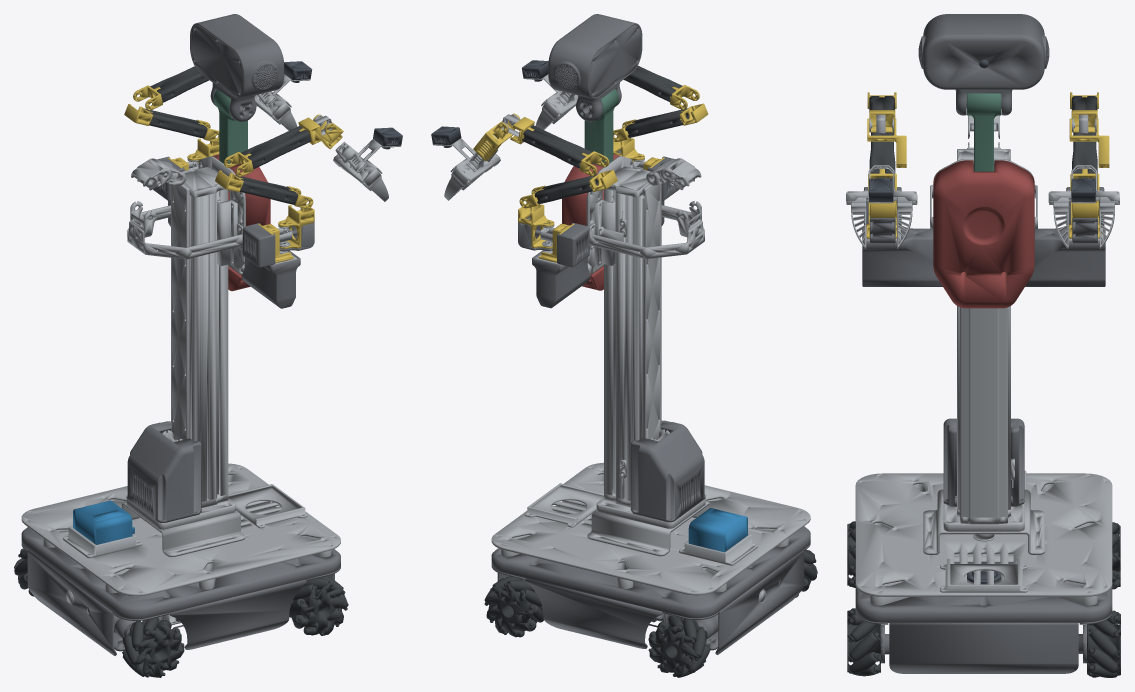
The model's file is preview.glb.
3 views of the same model, side by side, from view 1: azimuth 30°, elevation 25°; view 2: azimuth 150°, elevation 25°; view 3: azimuth 270°, elevation 25° (orthographic). The views are drawn at different scales.
Parts seen in each view (by area): view 1: base_link_metal, base_link_shell, lift_carriage_metal, head_link_shell, lift_carriage_shell, rear_right_wheel_carbon, front_right_wheel_carbon, base_link_battery, head_link_neck, lift_carriage_chest, right_arm_link5_metal, right_arm_link3_carbon (+8 smaller); view 2: base_link_metal, base_link_shell, lift_carriage_metal, head_link_shell, lift_carriage_shell, rear_left_wheel_carbon, front_left_wheel_carbon, base_link_battery, head_link_neck, lift_carriage_chest, left_arm_link3_carbon, left_arm_link5_metal (+9 smaller); view 3: base_link_metal, base_link_shell, lift_carriage_chest, head_link_shell, lift_carriage_shell, front_left_wheel_carbon, head_link_neck, front_right_wheel_carbon, right_arm_link2_carbon, left_arm_link2_carbon, left_arm_link4_arm, right_arm_link5_metal (+13 smaller).
Boxes of the visible parts, bbox=[...] form: base_link_metal: bbox=[21, 158, 340, 624]; base_link_shell: bbox=[21, 421, 340, 655]; lift_carriage_metal: bbox=[127, 156, 297, 440]; head_link_shell: bbox=[190, 14, 284, 121]; lift_carriage_shell: bbox=[153, 156, 314, 308]; rear_right_wheel_carbon: bbox=[122, 617, 184, 677]; front_right_wheel_carbon: bbox=[289, 576, 348, 635]; base_link_battery: bbox=[73, 500, 134, 544]; head_link_neck: bbox=[213, 89, 247, 165]; lift_carriage_chest: bbox=[212, 154, 270, 291]; right_arm_link5_metal: bbox=[333, 139, 400, 187]; right_arm_link3_carbon: bbox=[241, 126, 310, 169]; base_link_metal: bbox=[491, 158, 810, 622]; base_link_shell: bbox=[491, 420, 810, 654]; lift_carriage_metal: bbox=[535, 156, 704, 440]; head_link_shell: bbox=[548, 14, 642, 121]; lift_carriage_shell: bbox=[518, 150, 679, 308]; rear_left_wheel_carbon: bbox=[648, 615, 710, 677]; front_left_wheel_carbon: bbox=[484, 576, 543, 637]; base_link_battery: bbox=[688, 508, 747, 552]; head_link_neck: bbox=[584, 89, 618, 165]; lift_carriage_chest: bbox=[562, 154, 619, 290]; left_arm_link3_carbon: bbox=[522, 125, 591, 168]; left_arm_link5_metal: bbox=[433, 138, 500, 186]; base_link_metal: bbox=[855, 115, 1112, 605]; base_link_shell: bbox=[855, 418, 1112, 673]; lift_carriage_chest: bbox=[933, 160, 1034, 308]; head_link_shell: bbox=[918, 14, 1049, 115]; lift_carriage_shell: bbox=[862, 187, 1105, 286]; front_left_wheel_carbon: bbox=[1087, 610, 1120, 677]; head_link_neck: bbox=[967, 93, 1000, 171]; front_right_wheel_carbon: bbox=[847, 608, 880, 676]; right_arm_link2_carbon: bbox=[869, 132, 895, 178]; left_arm_link2_carbon: bbox=[1072, 132, 1097, 178]; left_arm_link4_arm: bbox=[1069, 118, 1109, 167]; right_arm_link5_metal: bbox=[846, 165, 917, 204].
Size of the model in its own units: 0.5395 by 1.04 by 0.4069.
